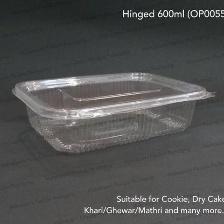plastic_box: (5, 61, 222, 160)
